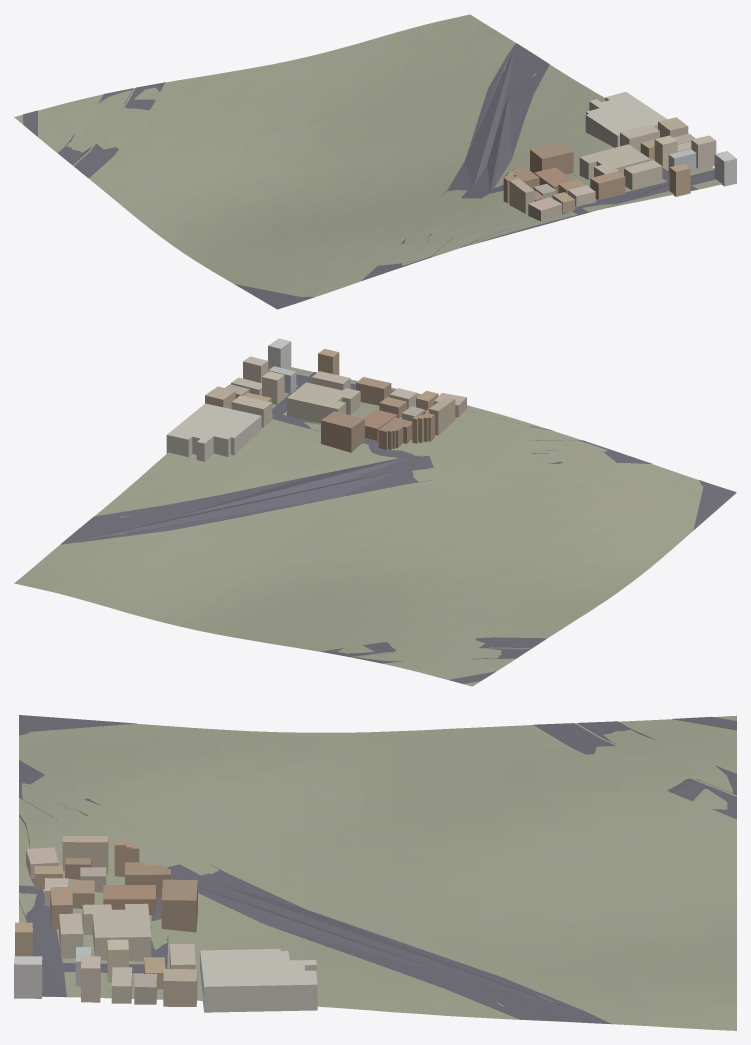
Rendered from chunk_8_2.glb.
The picture shows the model from 3 angles, top to bottom: view 1: azimuth 30°, elevation 25°; view 2: azimuth 150°, elevation 25°; view 3: azimuth 270°, elevation 25°; orthographic projection. The views are drawn at different scales.
Visible parts, largest first — view 1: geometry_25, geometry_36, geometry_32, geometry_5, geometry_0, geometry_28, geometry_27, geometry_1, geometry_14, geometry_15, geometry_4, geometry_2 (+8 smaller); view 2: geometry_25, geometry_36, geometry_32, geometry_5, geometry_0, geometry_1, geometry_27, geometry_19, geometry_15, geometry_7, geometry_2, geometry_29 (+4 smaller); view 3: geometry_25, geometry_5, geometry_36, geometry_32, geometry_0, geometry_28, geometry_27, geometry_1, geometry_6, geometry_2, geometry_4, geometry_16 (+14 smaller).
Boxes of the visible parts, left/top/right/bottom form: geometry_25: left=14, top=14, right=722, bottom=308; geometry_36: left=361, top=43, right=533, bottom=280; geometry_32: left=392, top=54, right=549, bottom=270; geometry_5: left=585, top=92, right=667, bottom=147; geometry_0: left=579, top=144, right=650, bottom=179; geometry_28: left=460, top=169, right=715, bottom=247; geometry_27: left=74, top=82, right=165, bottom=178; geometry_1: left=530, top=142, right=573, bottom=174; geometry_14: left=624, top=160, right=662, bottom=190; geometry_15: left=590, top=171, right=625, bottom=199; geometry_4: left=714, top=151, right=736, bottom=186; geometry_2: left=509, top=178, right=534, bottom=213; geometry_25: left=14, top=366, right=735, bottom=686; geometry_36: left=60, top=450, right=652, bottom=544; geometry_32: left=78, top=440, right=611, bottom=531; geometry_5: left=166, top=403, right=261, bottom=461; geometry_0: left=287, top=382, right=360, bottom=423; geometry_1: left=321, top=411, right=364, bottom=452; geometry_27: left=321, top=637, right=546, bottom=656; geometry_19: left=378, top=417, right=412, bottom=449; geometry_15: left=356, top=377, right=391, bottom=405; geometry_7: left=231, top=395, right=272, bottom=427; geometry_2: left=429, top=397, right=455, bottom=435; geometry_29: left=693, top=491, right=734, bottom=530; geometry_25: left=19, top=715, right=736, bottom=1030; geometry_5: left=200, top=949, right=317, bottom=1012; geometry_36: left=19, top=760, right=611, bottom=1023; geometry_32: left=19, top=782, right=569, bottom=1021; geometry_0: left=82, top=903, right=151, bottom=961; geometry_28: left=19, top=814, right=66, bottom=996; geometry_27: left=533, top=723, right=736, bottom=819; geometry_1: left=161, top=879, right=197, bottom=932; geometry_6: left=163, top=969, right=197, bottom=1006; geometry_2: left=62, top=836, right=108, bottom=875; geometry_4: left=14, top=956, right=42, bottom=998; geometry_16: left=103, top=885, right=156, bottom=915.
Bounding box in the file's own units: 254 × 28.53 × 252.
